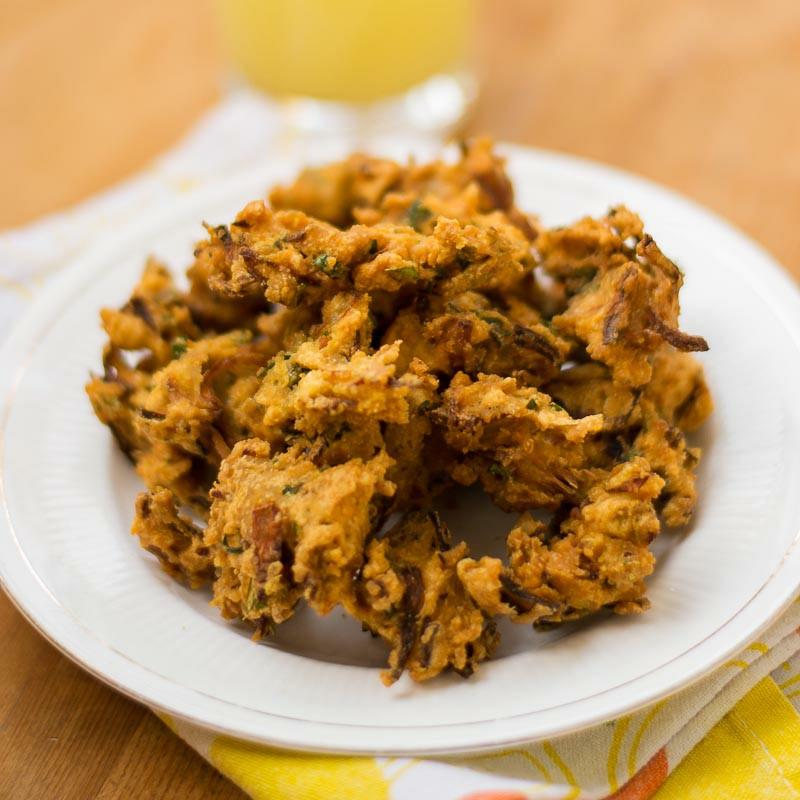OnionPakoda: (79, 125, 724, 689)
